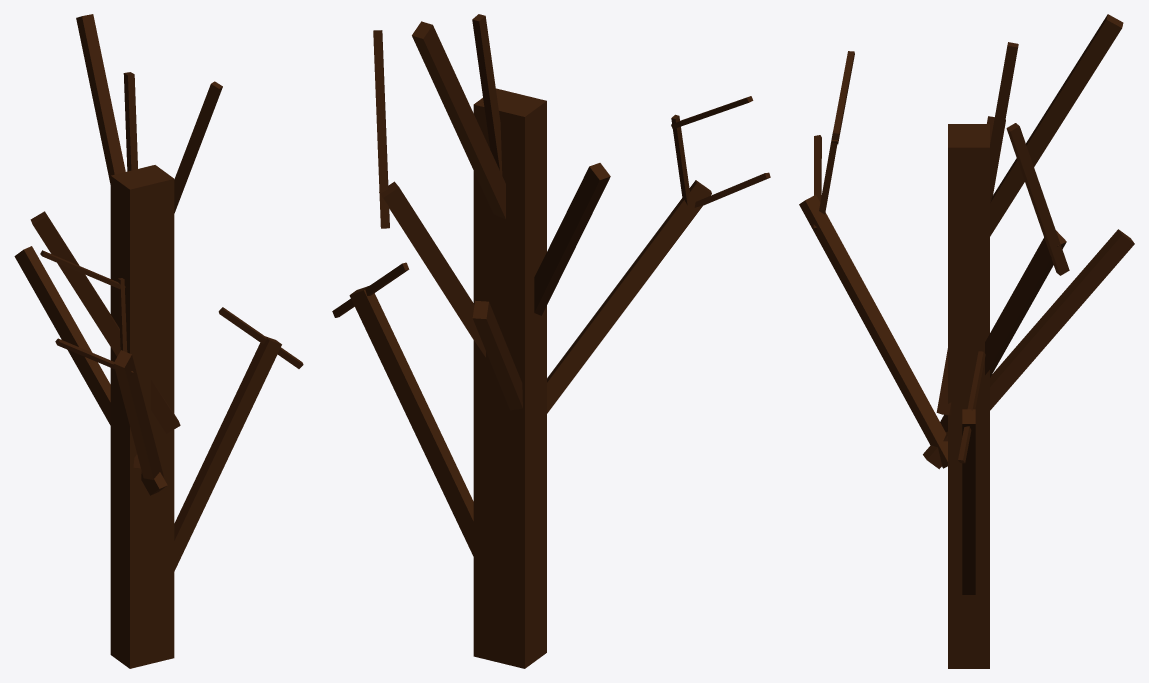
Rendered from tree.FBX.
3 views of the same model, side by side, from view 1: azimuth 30°, elevation 25°; view 2: azimuth 150°, elevation 25°; view 3: azimuth 270°, elevation 25° (orthographic). The views are drawn at different scales.
Visible parts, largest first — view 1: Box008; view 2: Box008; view 3: Box008.
Boxes of the visible parts, x1,y1,x2,y2 form: Box008: (14, 14, 303, 668); Box008: (332, 14, 770, 668); Box008: (799, 14, 1134, 668).
Bounding box in the file's own units: 320 × 579 × 274.
